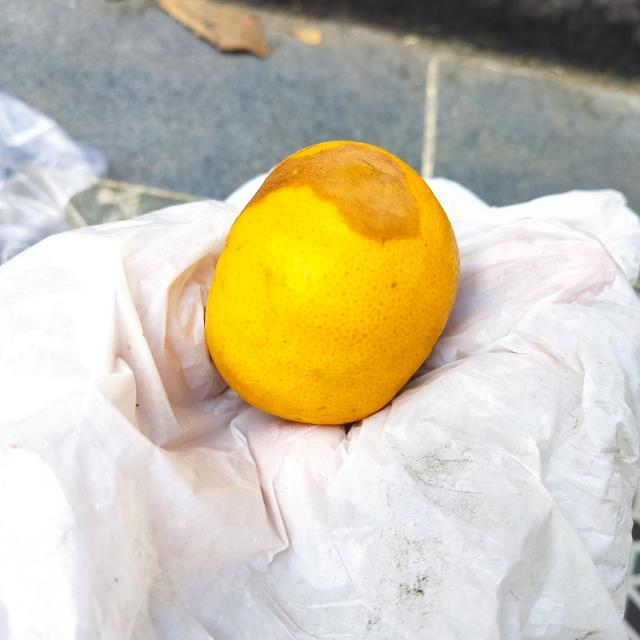orange: (204, 137, 462, 427)
